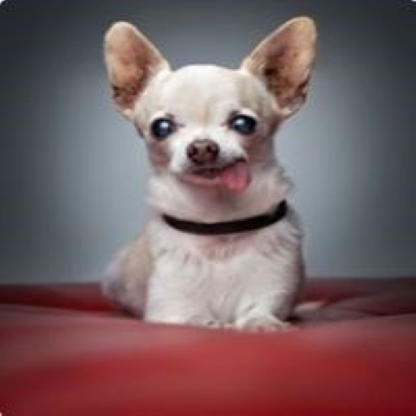chihuahua: (100, 13, 318, 333)
